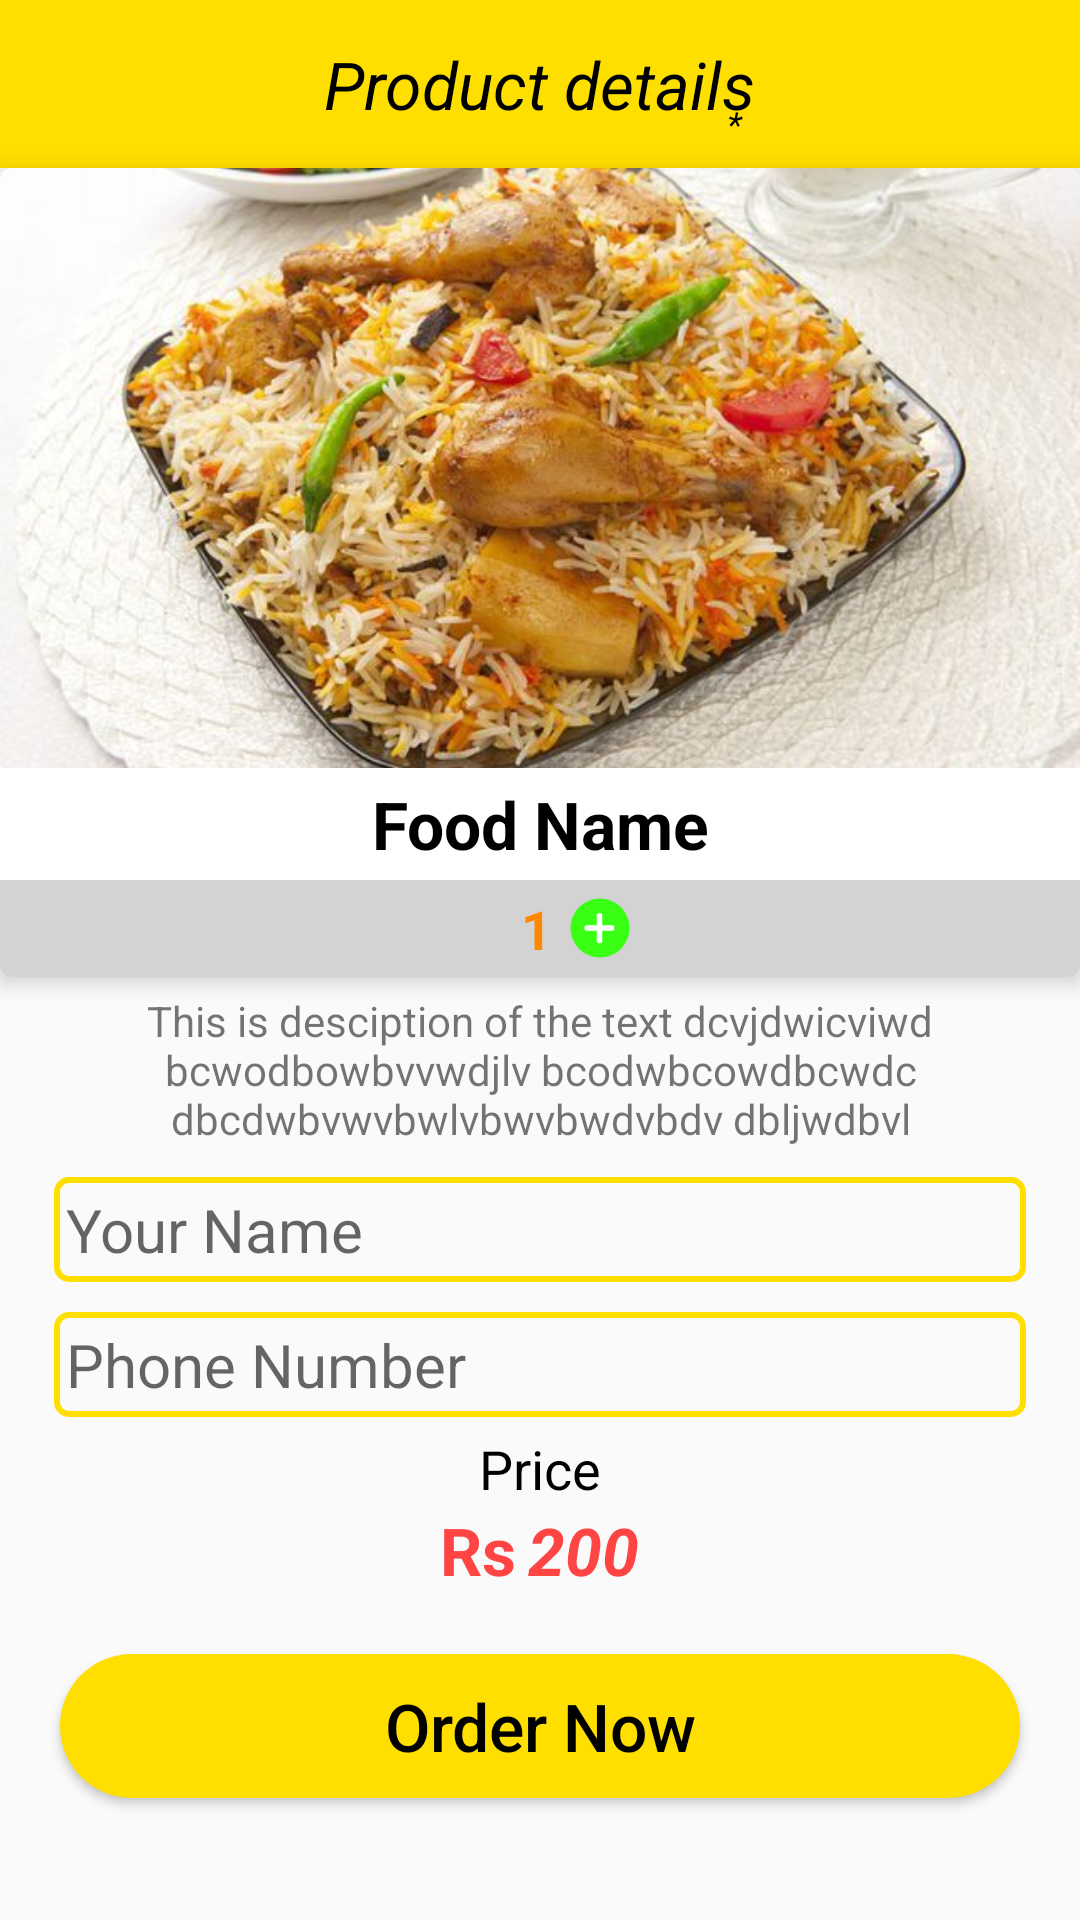

Screen size 1080 x 1920. Icon name, then its box in pixels as (x1, y1, x2, y2):
add: (570, 898, 630, 958)
